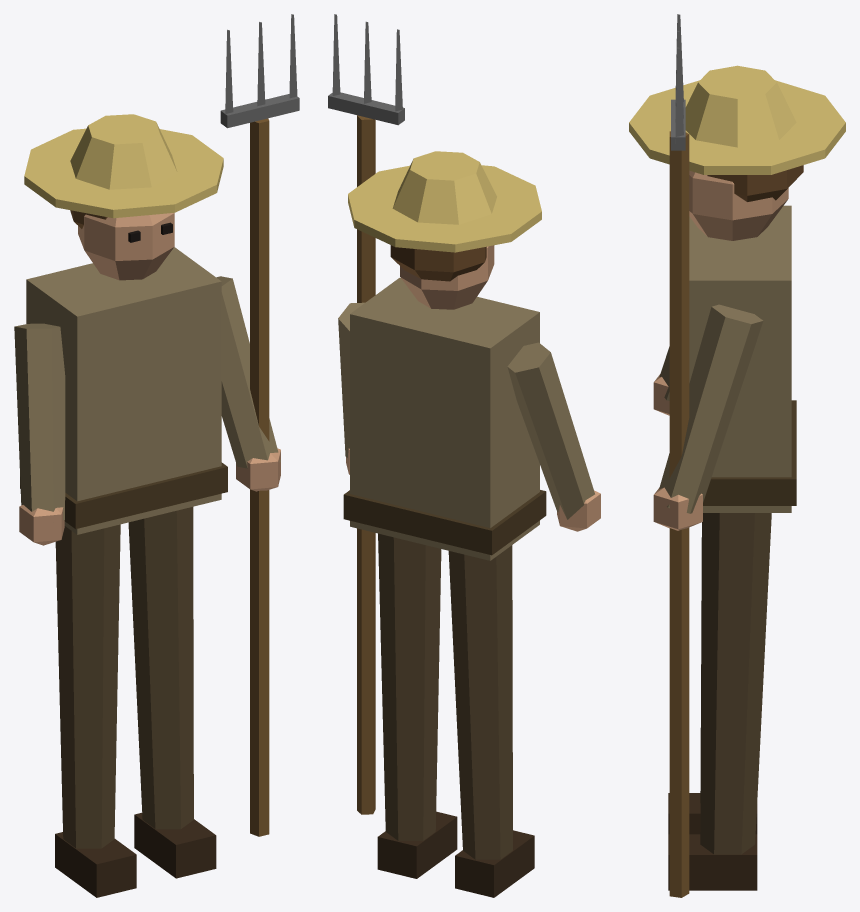
Rendered from bauer.glb.
3 renders of one model, left to right at view 1: azimuth 30°, elevation 25°; view 2: azimuth 150°, elevation 25°; view 3: azimuth 270°, elevation 25°, orthographic. The views are drawn at different scales.
Bounding box in the file's own units: 0.6728 × 1.98 × 0.44.
Materials: 1 (1 with a texture image).
